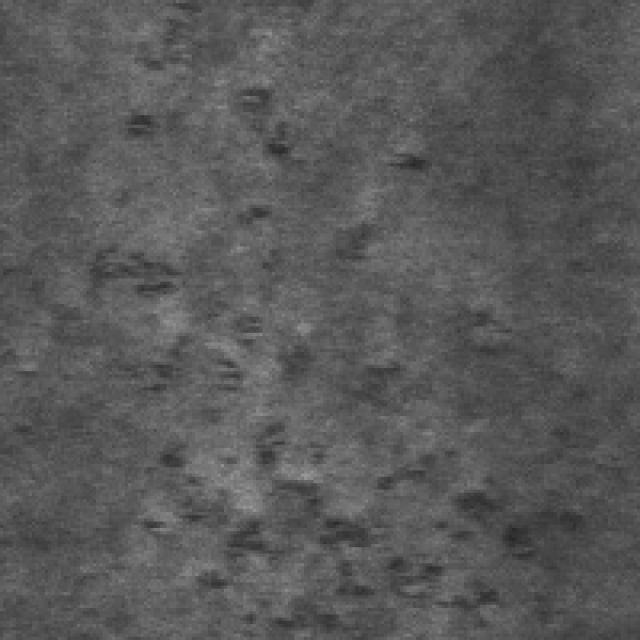rolled-in_scale: (128, 288, 544, 637), (128, 0, 294, 157)
